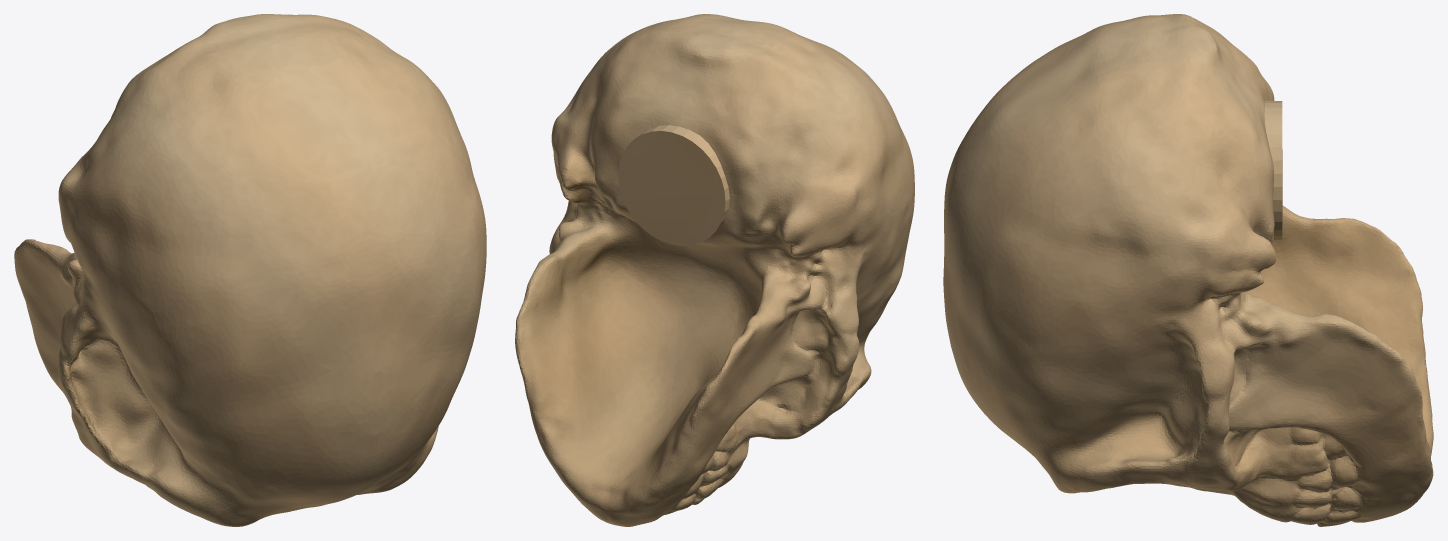
File: floresiensis.glb
3 renders of one model, left to right at view 1: azimuth 30°, elevation 25°; view 2: azimuth 150°, elevation 25°; view 3: azimuth 270°, elevation 25°, orthographic. The views are drawn at different scales.
Size of the model in its own units: 27 by 36.11 by 33.46.
